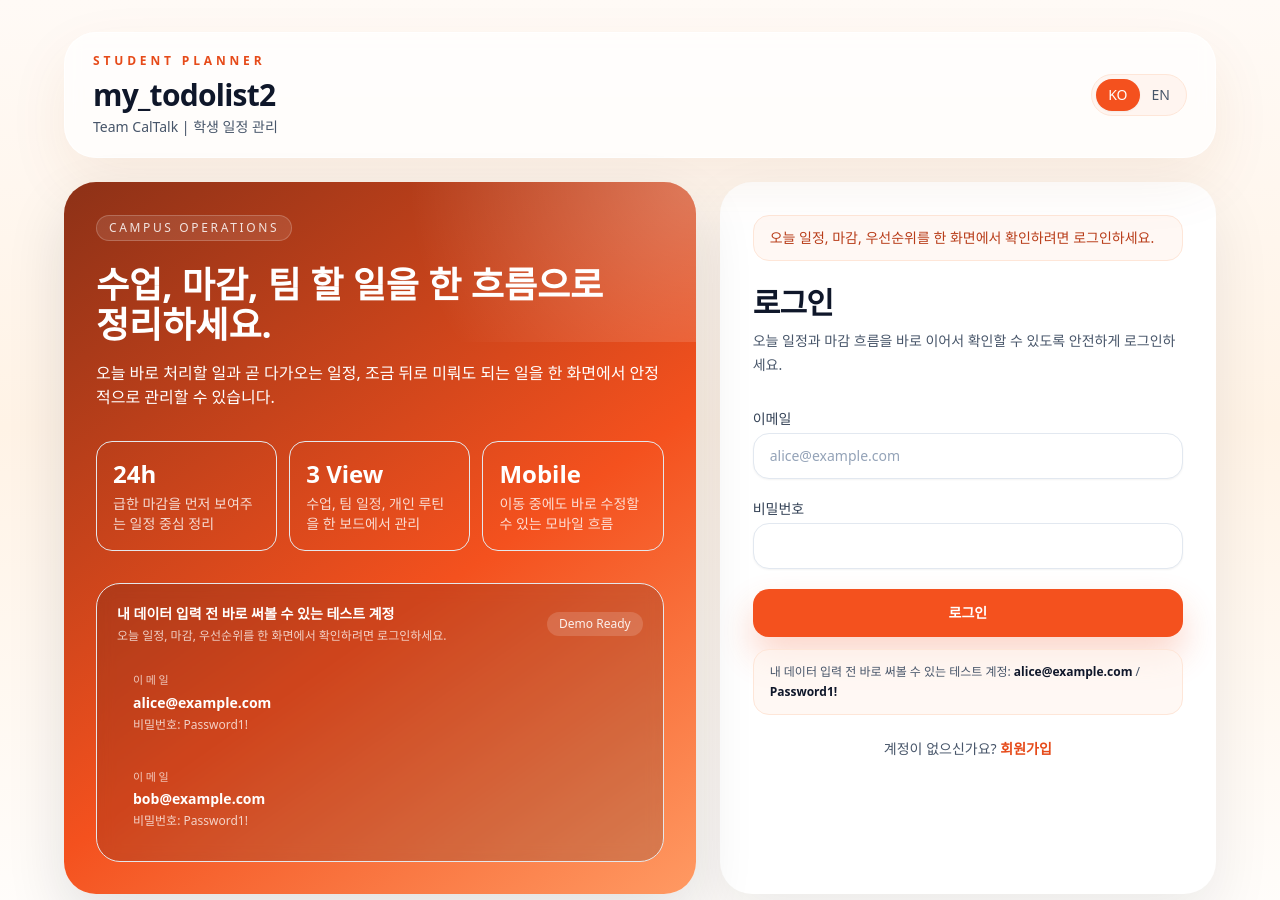
Test: 이메일 유효성 검사 › 이메일 형식이 아니면 blur 시 인라인 에러가 표시된다
The width and height of the screenshot is (1280, 900).
Type "invalid-email" into the field labelled "이메일" at (968, 456), box [753,433,1183,479]
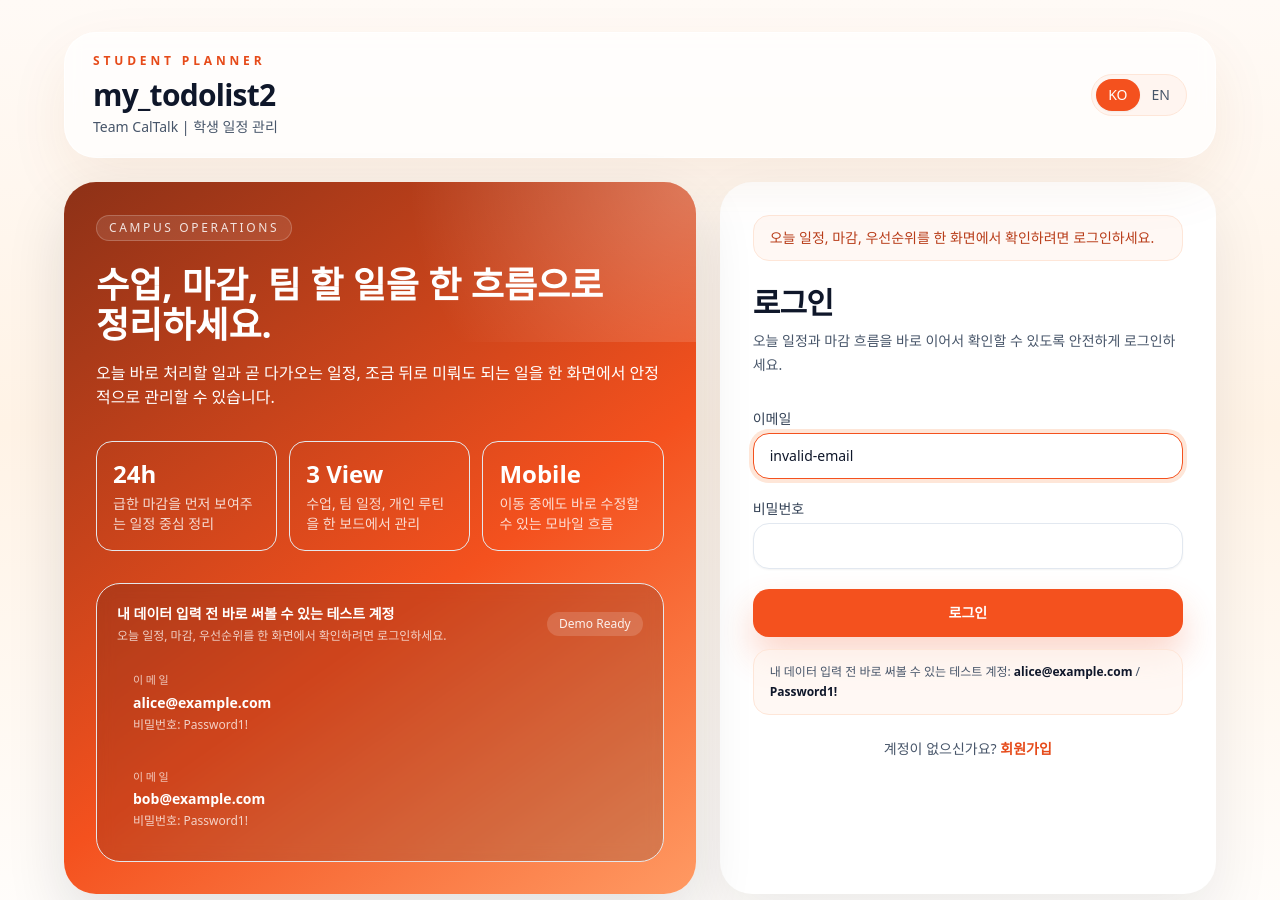
Press Tab
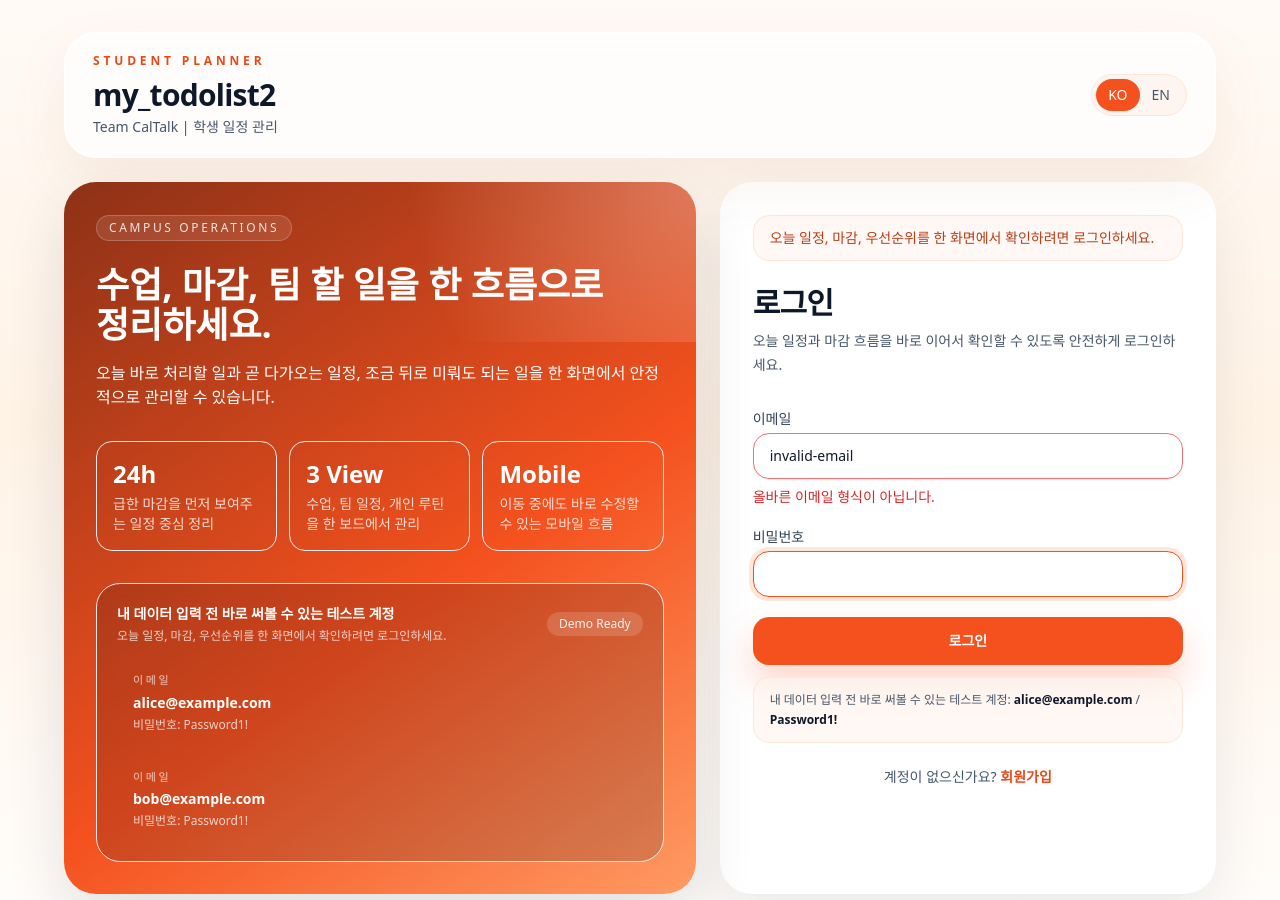
expect the text "올바른 이메일 형식이 아닙니다." is shown: met, box [753,487,935,506]
